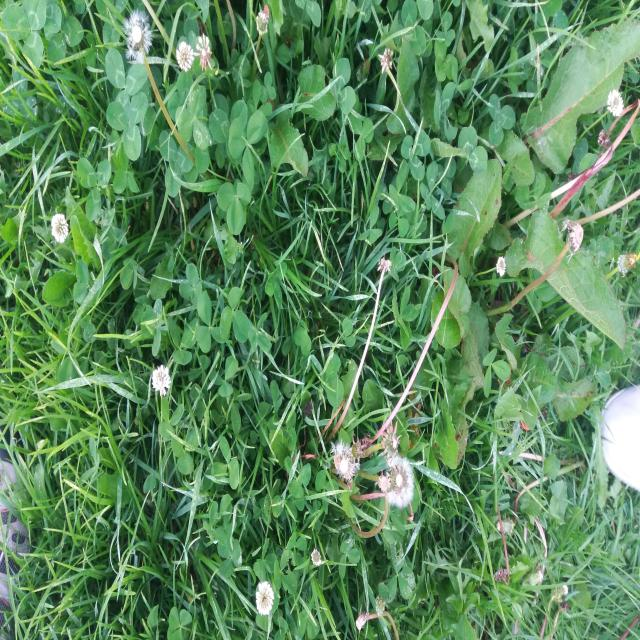Four Leaf Clover: (159, 83, 209, 158), (280, 287, 321, 347), (284, 221, 330, 269), (392, 286, 418, 338)
